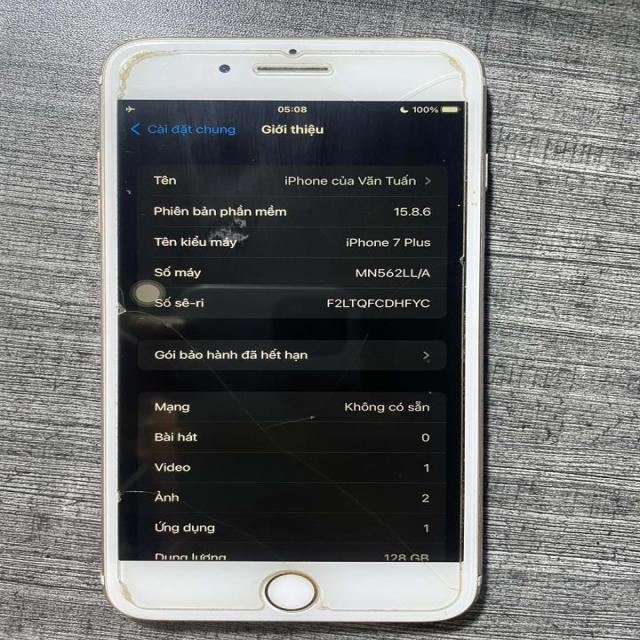gen_7_8: (96, 36, 493, 624)
physical_damage: (368, 514, 430, 561), (115, 49, 175, 97), (130, 307, 193, 349), (314, 77, 390, 111), (314, 471, 372, 513), (389, 76, 472, 100), (268, 432, 313, 472), (187, 350, 227, 385), (219, 386, 254, 424), (422, 561, 460, 593), (256, 413, 318, 430), (113, 576, 139, 608), (114, 287, 128, 317), (444, 53, 466, 71), (316, 599, 332, 612), (456, 254, 468, 268), (281, 560, 292, 570)
scratch: (207, 216, 250, 247), (469, 184, 480, 210), (122, 188, 134, 195)
